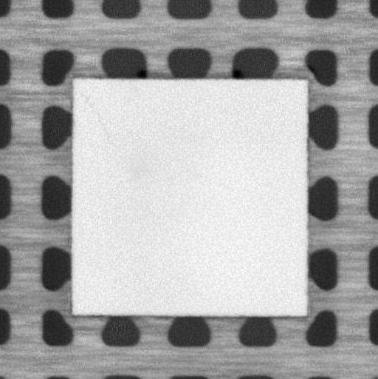DIE_CRACK: (81, 93, 114, 145)
